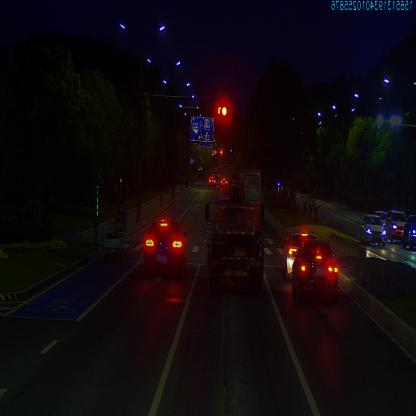traffic-light: (216, 105, 227, 119)
